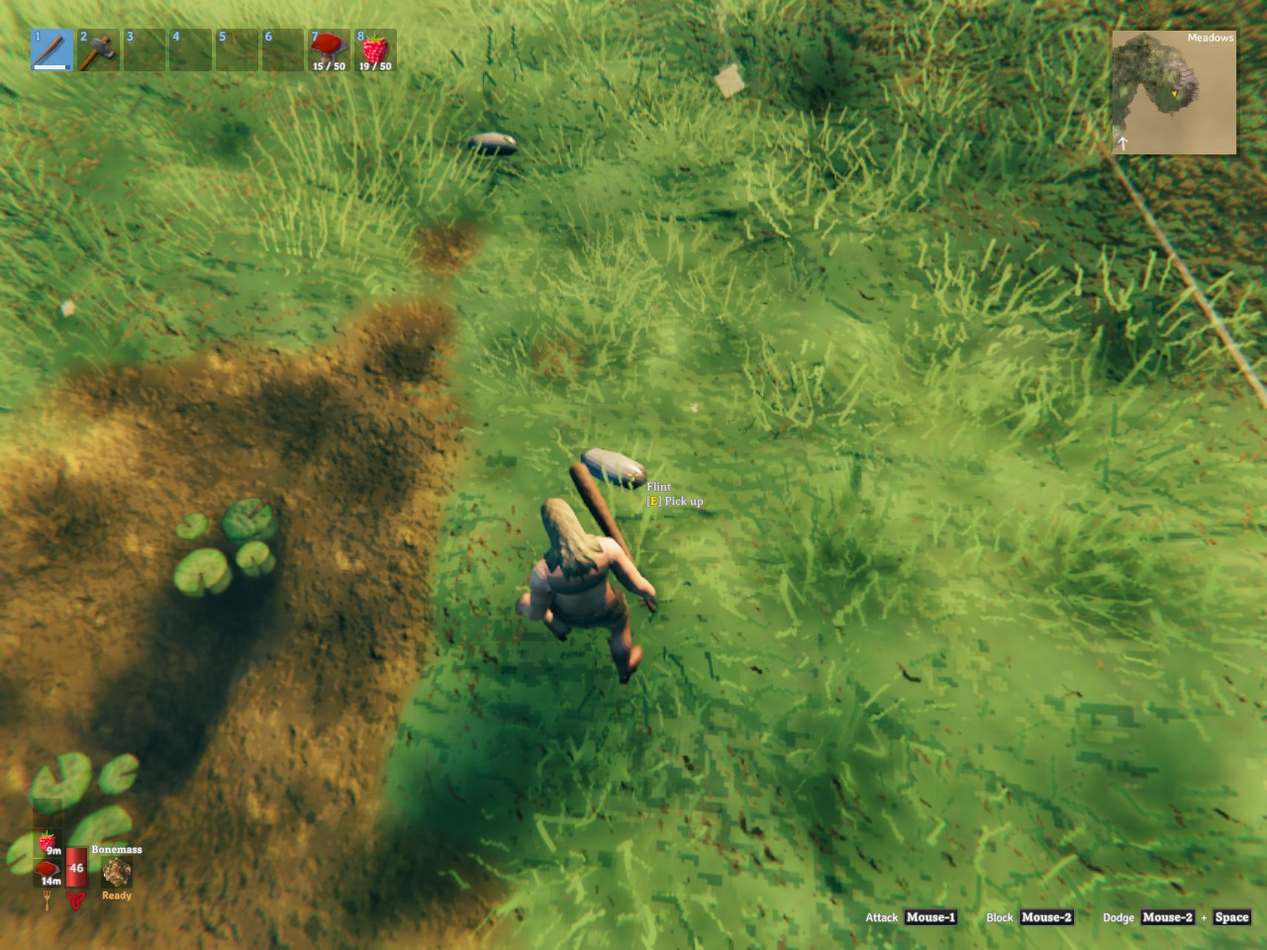Flint: (582, 447, 646, 487), (467, 132, 519, 155)
